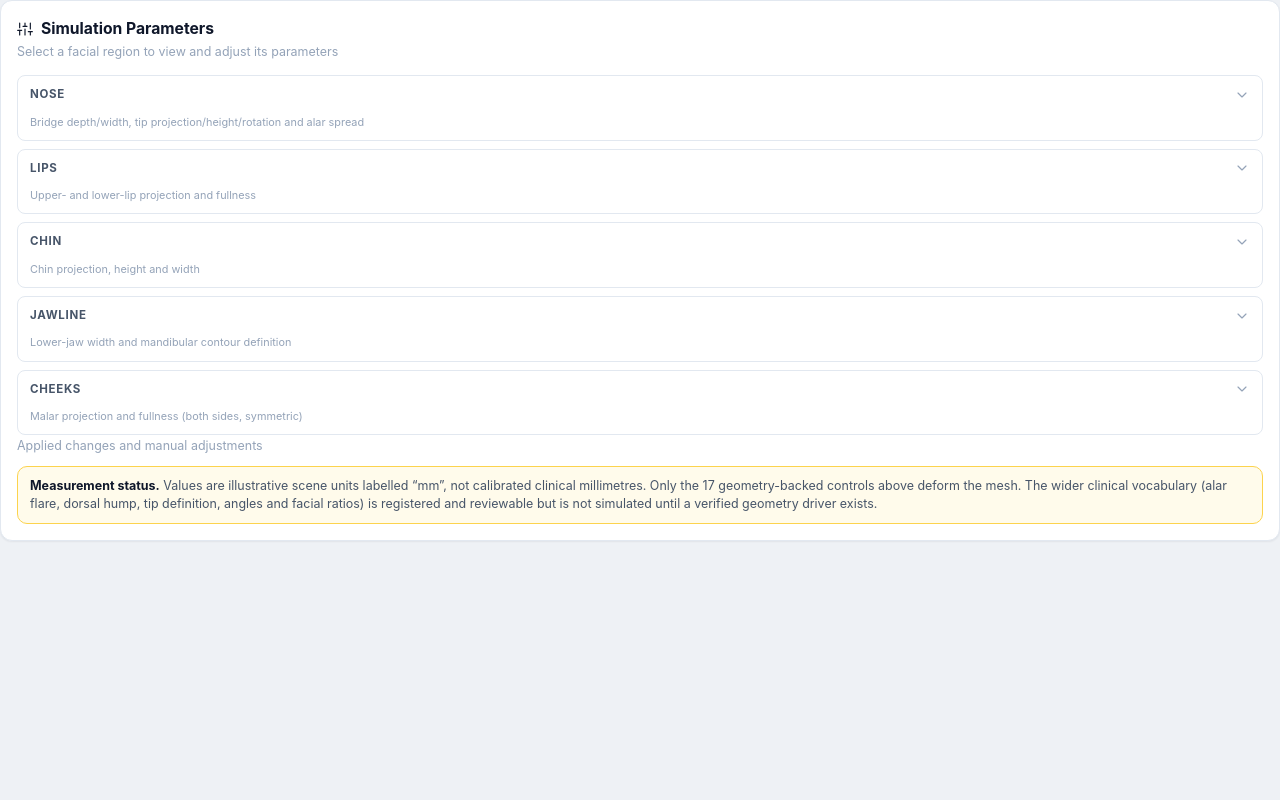
Test: ParameterPanel › marks the region as expanded when opened
This screenshot has width=1280, height=800.
Click the button "Nose". click: [47, 94]
box: 18,76 -> 1262,114
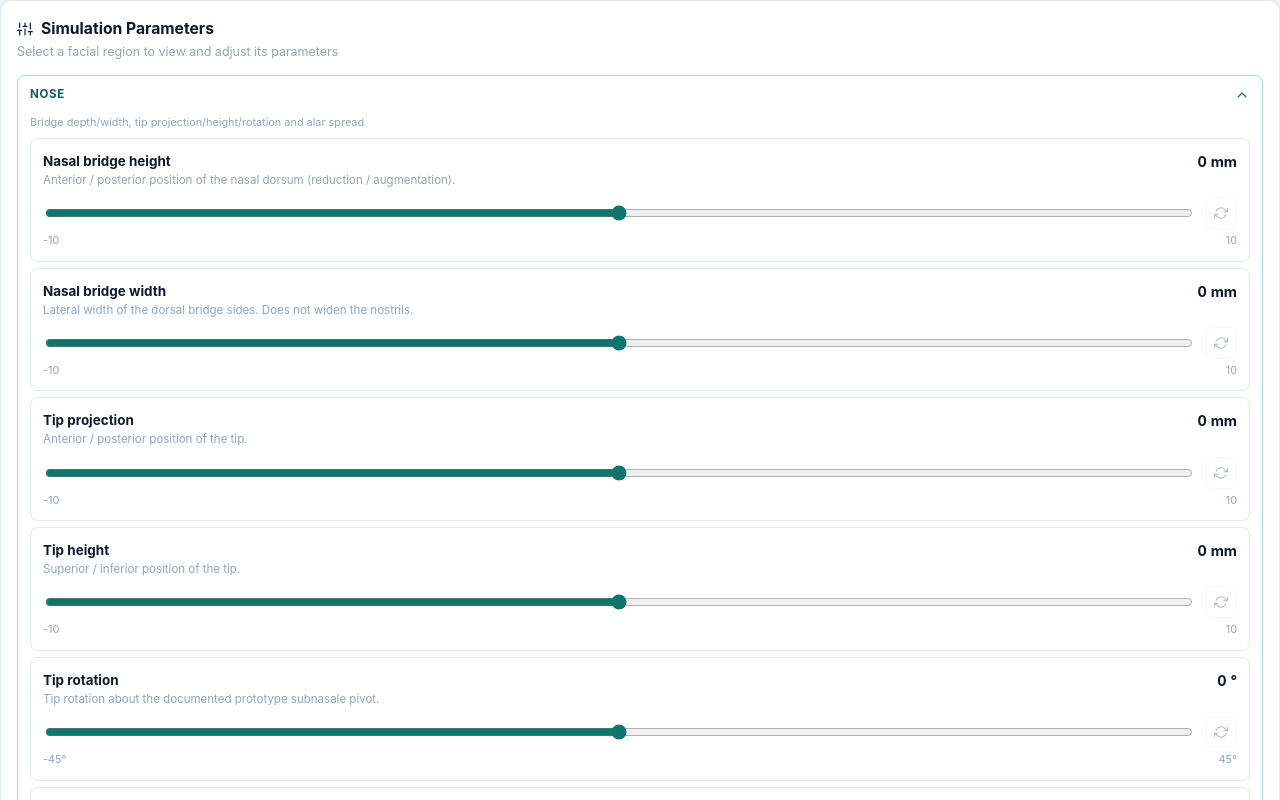
Now the button "Nose" is expanded, box 18,76 -> 1262,114
